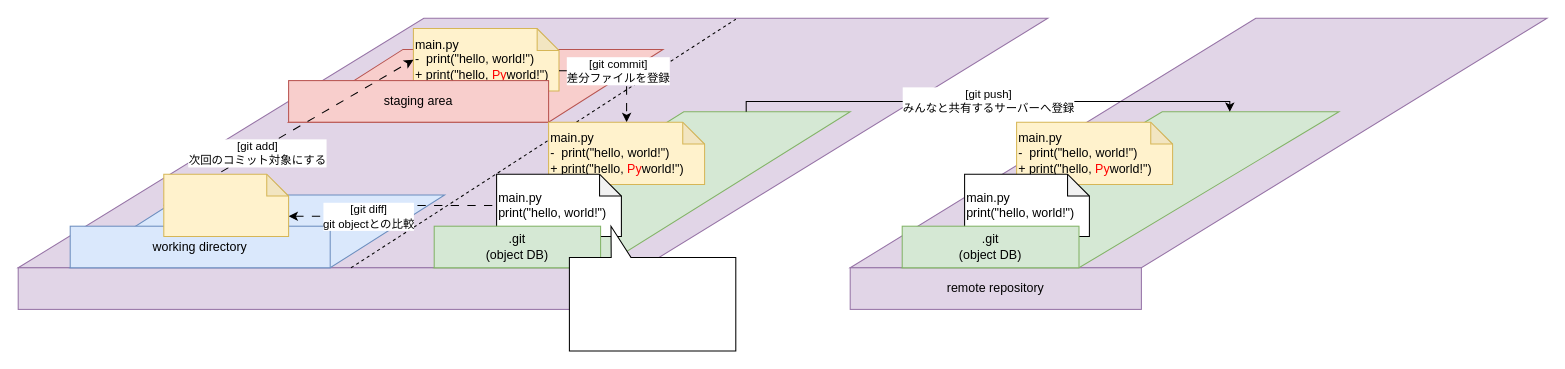
Some shapes in this 1565 by 369 pixel diagram are drawn without their labels. Each missing label, with the box of its shape:
local repository: (17, 267, 642, 309)
main.py print("hello, Py world!"): (163, 173, 289, 237)
本当は 5985946809e5f11a9 6 b ba5a567b4a460b3bb6d みたいなファイルで 管理されている: (568, 225, 736, 351)
